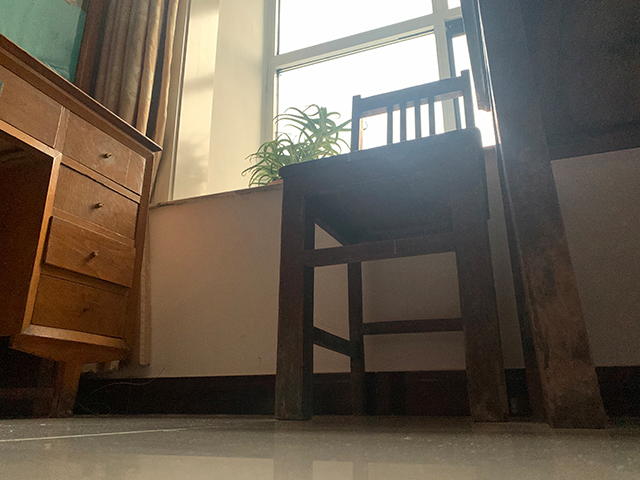cabinet: (1, 33, 167, 418)
curtain: (73, 1, 182, 373)
stool: (273, 67, 509, 423)
table: (459, 1, 640, 429)
wire: (74, 368, 163, 417)
